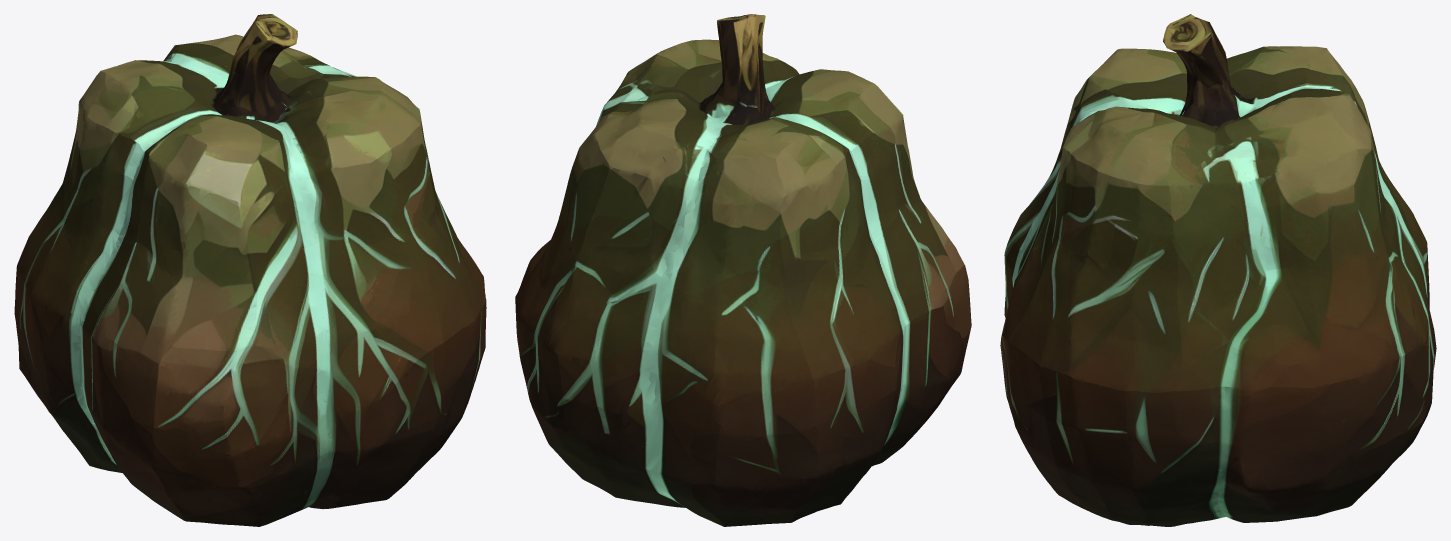
The model's file is item_mutated_fruit.glb.
3 renders of one model, left to right at view 1: azimuth 30°, elevation 25°; view 2: azimuth 150°, elevation 25°; view 3: azimuth 270°, elevation 25°, orthographic. The views are drawn at different scales.
Parts seen in each view (by area): view 1: item_mutated_fruit; view 2: item_mutated_fruit; view 3: item_mutated_fruit.
Boxes of the visible parts, <box> form: item_mutated_fruit: <box>14,14,486,526</box>; item_mutated_fruit: <box>515,14,971,526</box>; item_mutated_fruit: <box>1000,14,1436,526</box>.
Bounding box in the file's own units: 0.1531 × 0.18 × 0.1524.
Materials: 1 (1 with a texture image).
